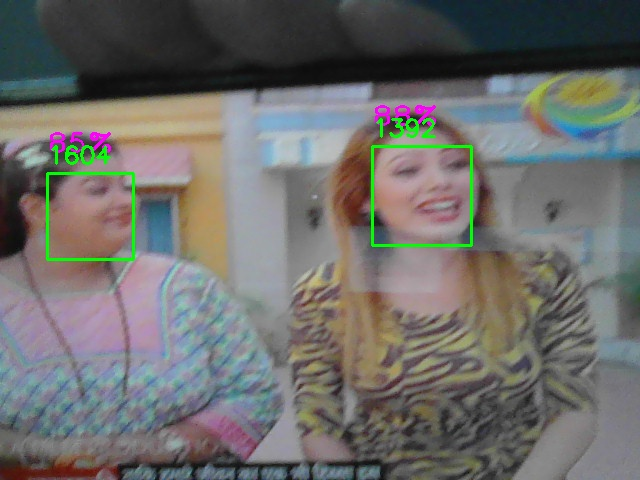fake: (372, 146, 472, 246), (47, 173, 134, 260)
